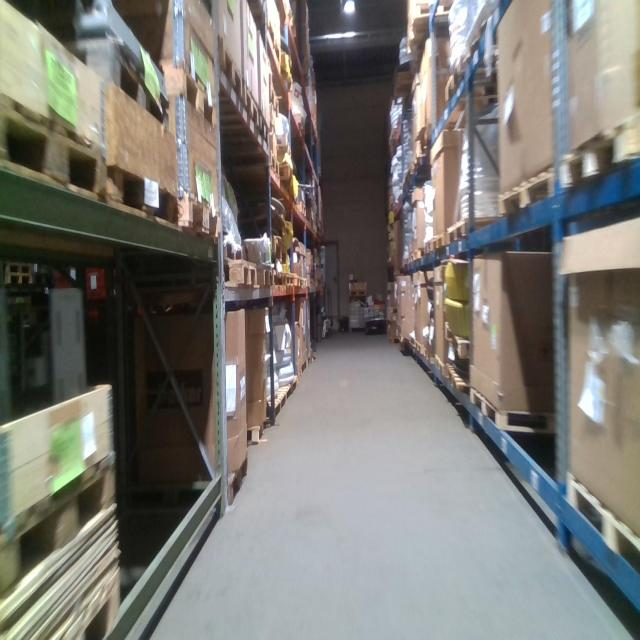pallet: (1, 448, 118, 601), (1, 95, 105, 210), (61, 36, 169, 131), (566, 471, 640, 569), (145, 454, 249, 507), (559, 121, 638, 190), (105, 163, 179, 233), (469, 383, 559, 436), (159, 57, 218, 133), (498, 168, 557, 218), (69, 581, 118, 636), (179, 192, 222, 243), (447, 215, 500, 246), (220, 46, 242, 104), (223, 256, 260, 289), (444, 57, 466, 103), (444, 321, 469, 357), (242, 82, 260, 131), (447, 362, 471, 391), (246, 414, 268, 445), (220, 231, 244, 259), (265, 387, 286, 418), (270, 147, 281, 181), (255, 267, 274, 286), (259, 108, 268, 146), (285, 374, 299, 397), (270, 82, 279, 117), (270, 266, 284, 287), (436, 354, 446, 379), (423, 345, 436, 363), (432, 236, 446, 251), (424, 239, 435, 256), (284, 272, 294, 288), (415, 338, 424, 353), (349, 288, 367, 295), (295, 276, 304, 286)
